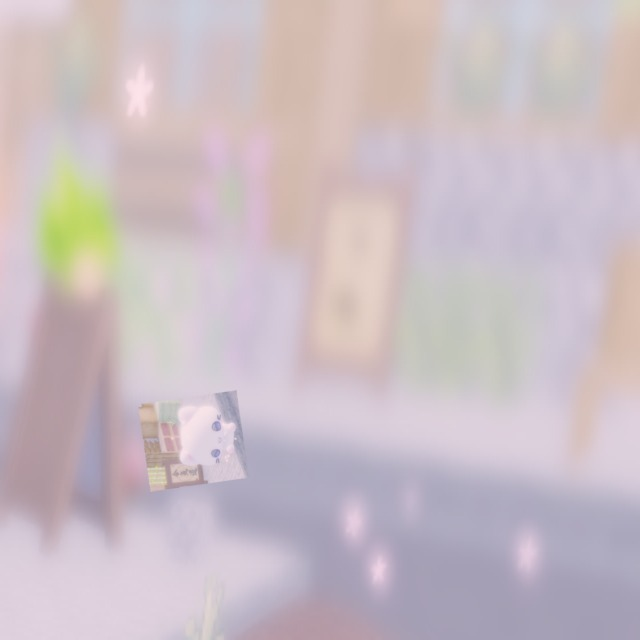urso_branco: (138, 390, 249, 492)
